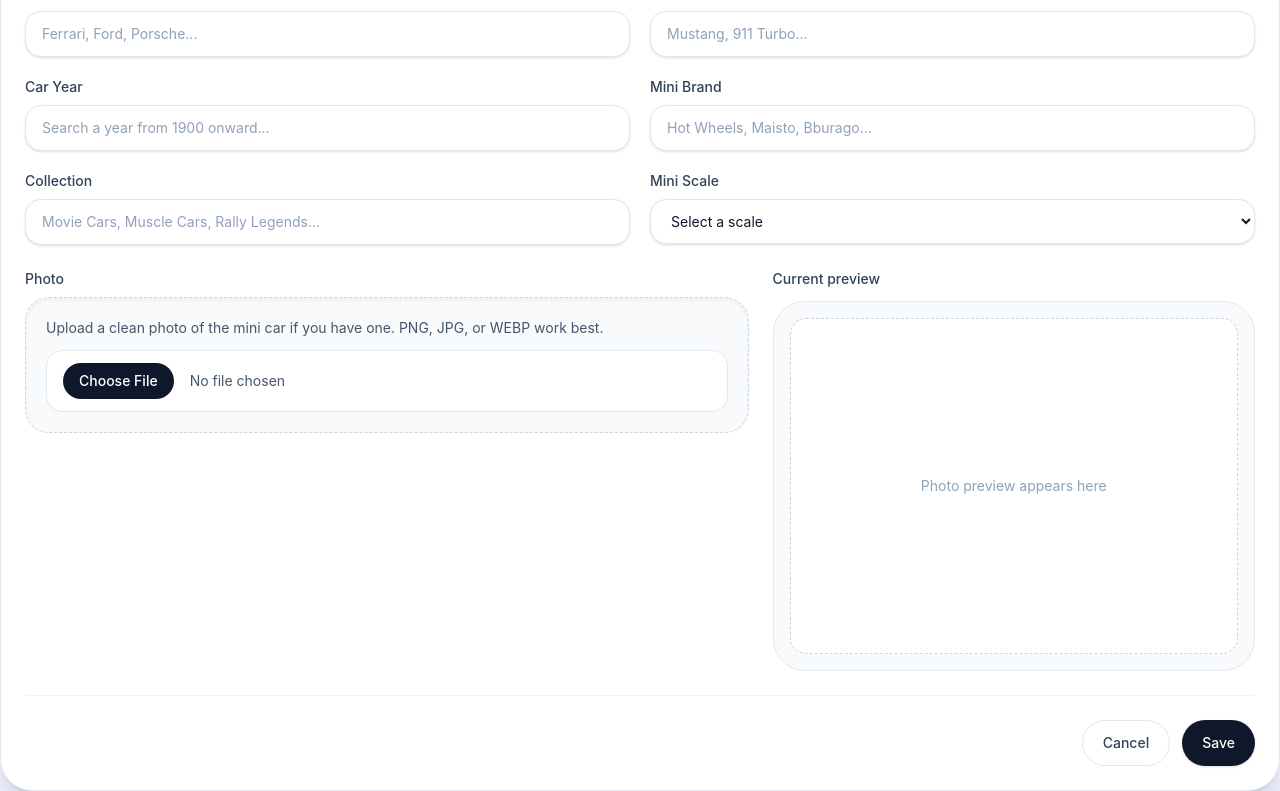
MiniCarForm › shows validation errors for missing required fields
(page scrolled)
Click the button "Save": (1219, 743) [1182, 720, 1255, 766]
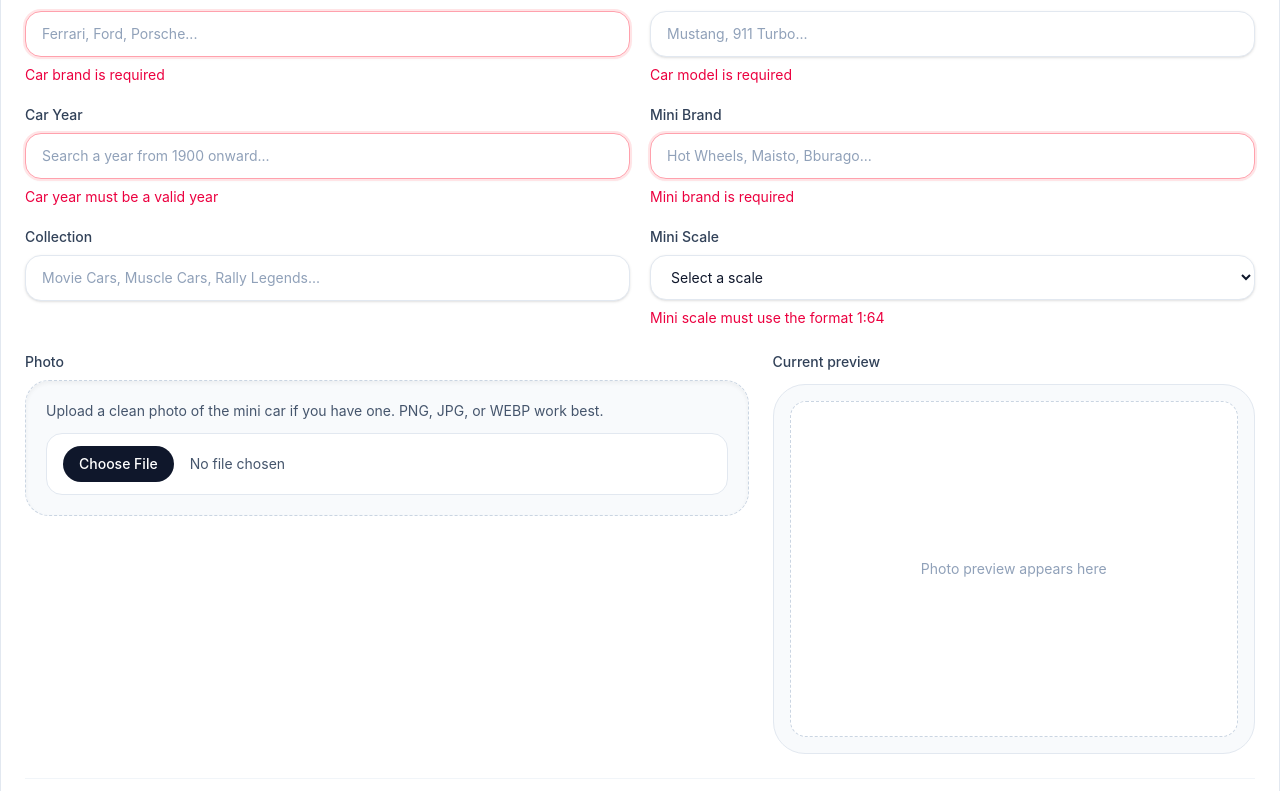
Check: the text "Car brand is required" is shown, box [25, 66, 165, 83]
Check: the text "Car model is required" is shown, box [650, 66, 792, 83]
Check: the text "Car year must be a valid year" is shown, box [25, 188, 218, 205]
